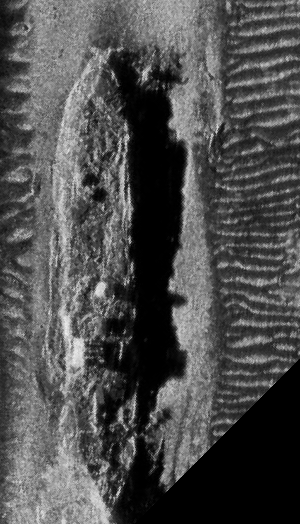ship: (43, 44, 153, 514)
